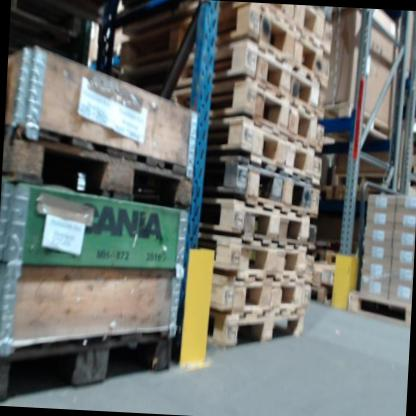pallet: (0, 120, 194, 213), (0, 316, 183, 414), (211, 38, 330, 116), (206, 114, 326, 190), (219, 1, 336, 78), (208, 76, 329, 150), (202, 151, 323, 215), (198, 195, 317, 246), (205, 308, 306, 352), (212, 241, 318, 280), (210, 275, 312, 312), (345, 287, 411, 326)
